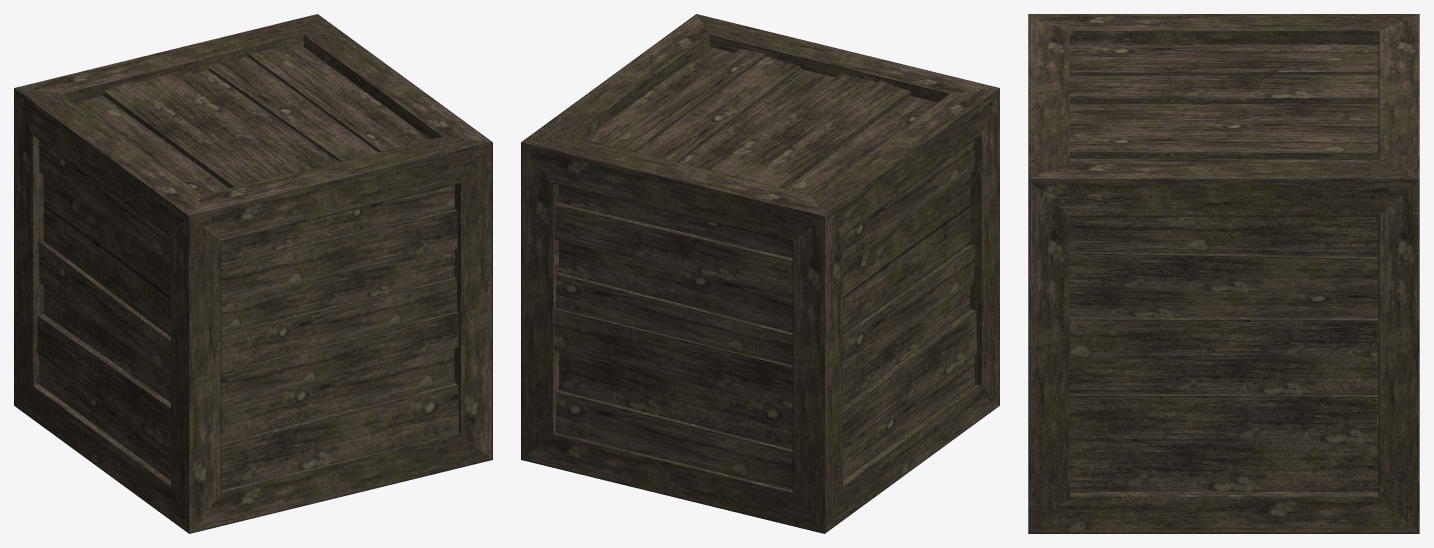
Rendered from Crate04.fbx.
The picture shows the model from 3 angles, left to right: view 1: azimuth 30°, elevation 25°; view 2: azimuth 150°, elevation 25°; view 3: azimuth 270°, elevation 25°; orthographic projection. The views are drawn at different scales.
Parts seen in each view (by area): view 1: Crate04; view 2: Crate04; view 3: Crate04.
Boxes of the visible parts, bbox=[...] form: Crate04: bbox=[14, 14, 492, 533]; Crate04: bbox=[521, 14, 999, 533]; Crate04: bbox=[1028, 14, 1419, 533].
Size of the model in its own units: 93.73 by 93.73 by 93.73.
